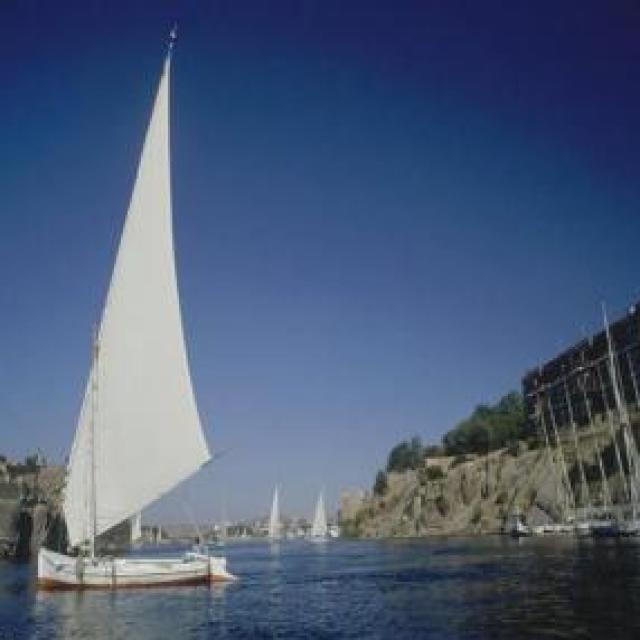sailboat: (31, 19, 217, 585), (304, 481, 331, 544), (258, 487, 291, 538)
